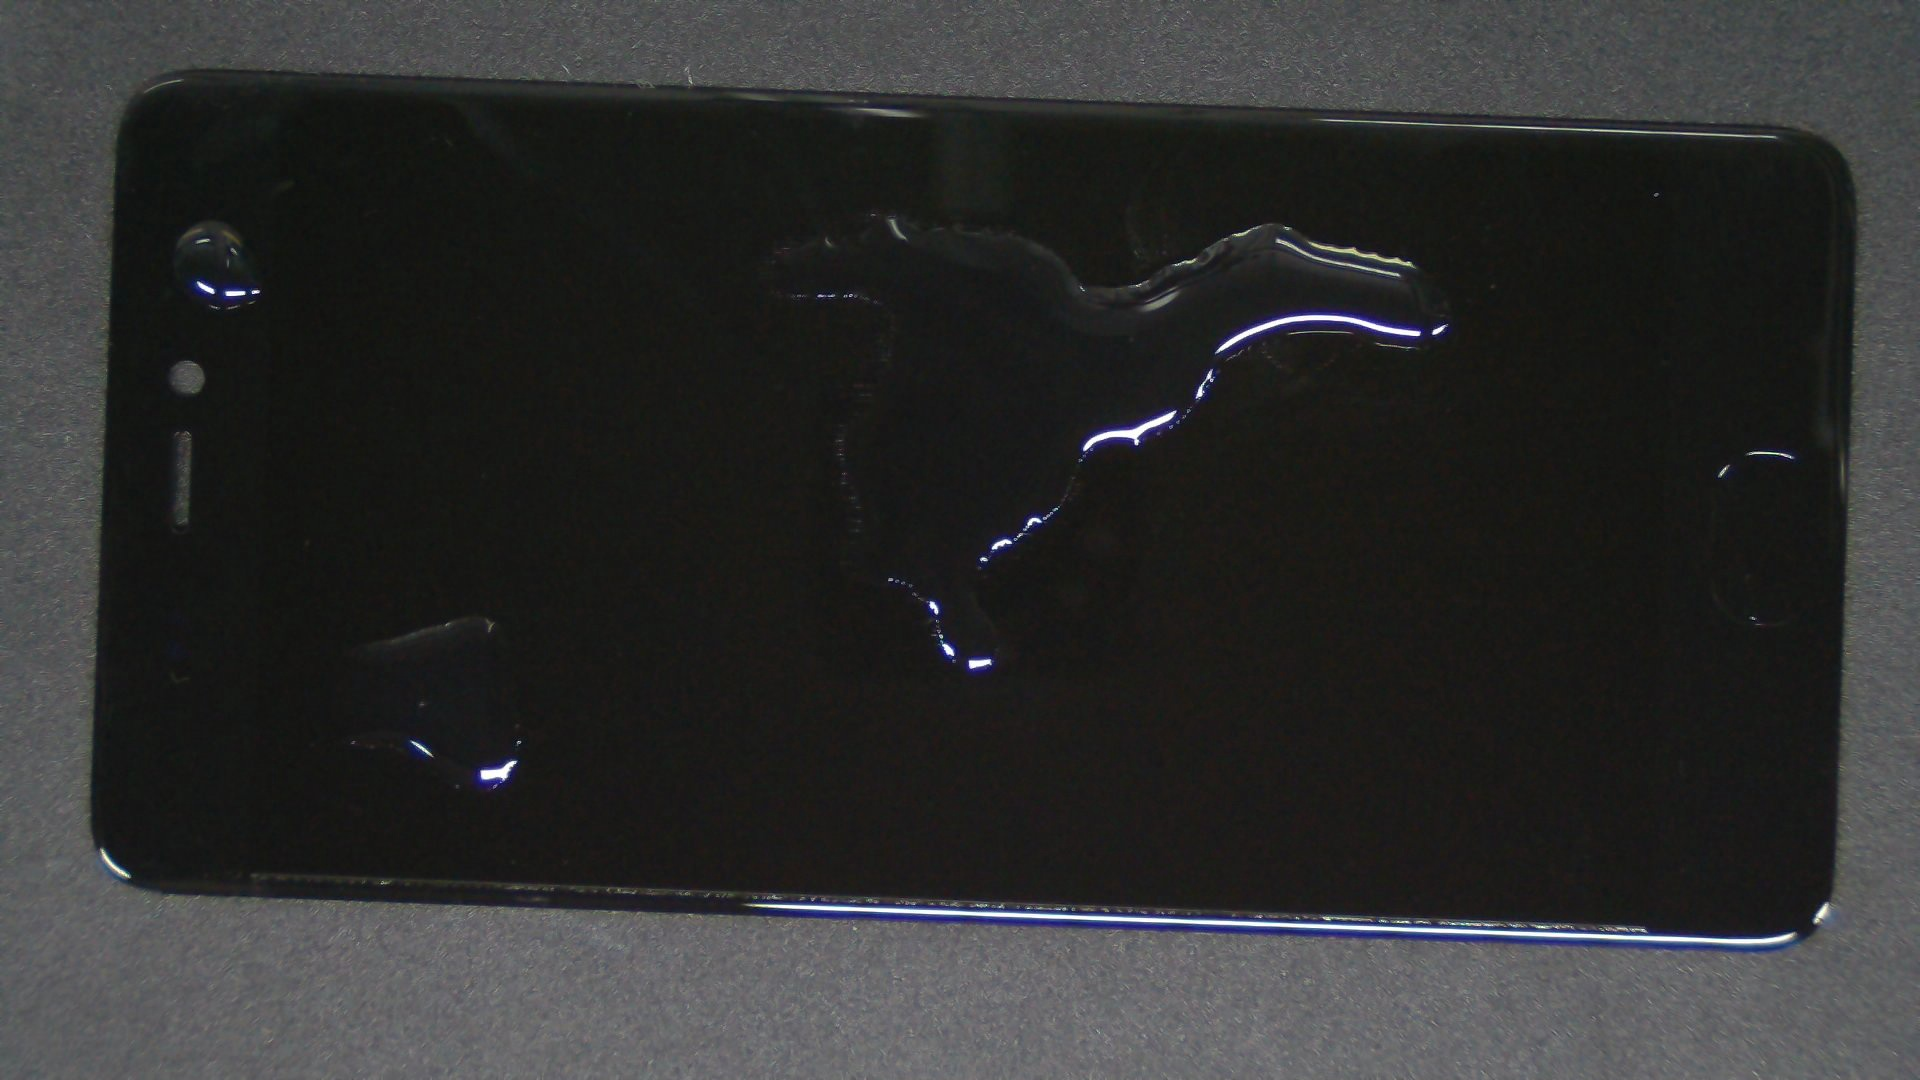oil: (233, 307, 700, 923), (439, 105, 1315, 319), (103, 109, 309, 328)
